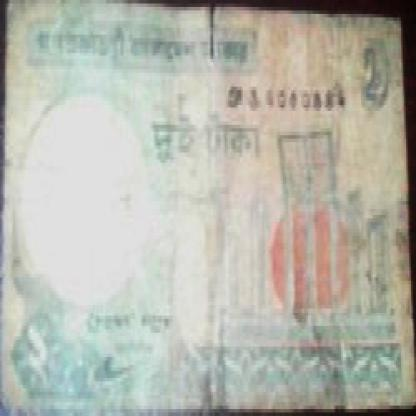two taka: (150, 108, 271, 194), (359, 35, 388, 108)
